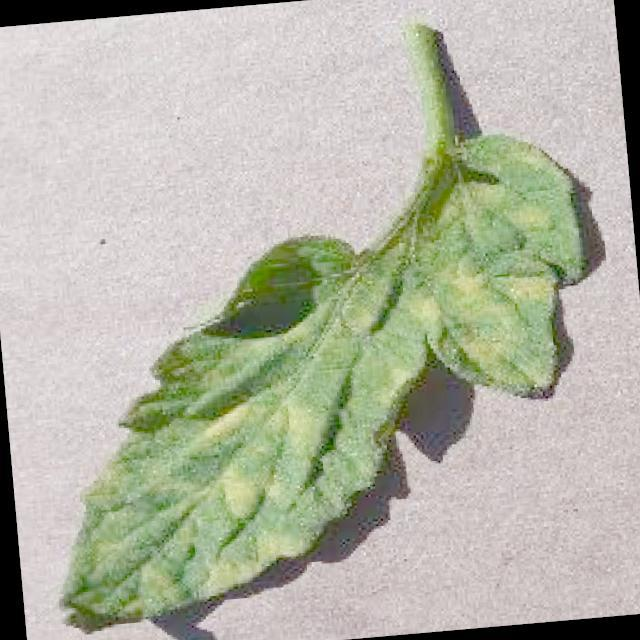Tomato mold leaf: (23, 128, 605, 632)
